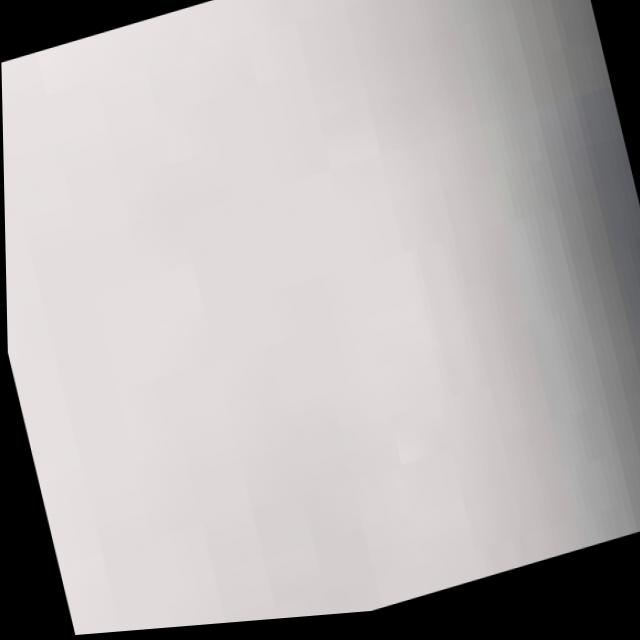metal-plates: (2, 1, 640, 637)
